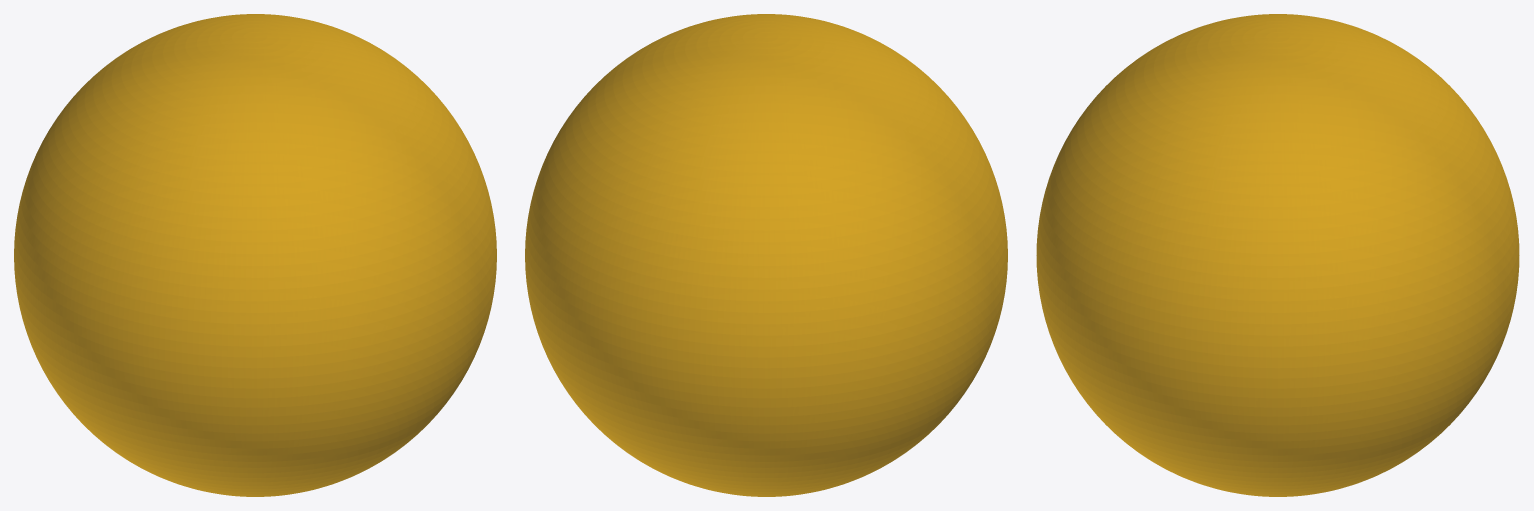
3 renders of one model, left to right at view 1: azimuth 30°, elevation 25°; view 2: azimuth 150°, elevation 25°; view 3: azimuth 270°, elevation 25°, orthographic.
Parts seen in each view (by area): view 1: Sphere; view 2: Sphere; view 3: Sphere.
Part boxes in pixels (x1,y1,x2,y2): Sphere: (14,14,496,496); Sphere: (525,14,1007,496); Sphere: (1036,14,1519,496).
Bounding box in the file's own units: 0.02 × 0.02 × 0.02.
